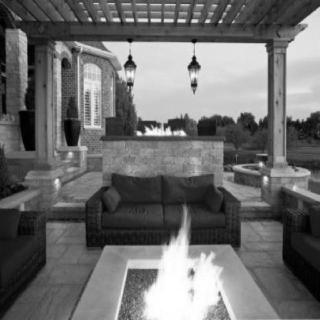other: (261, 170, 270, 188)
